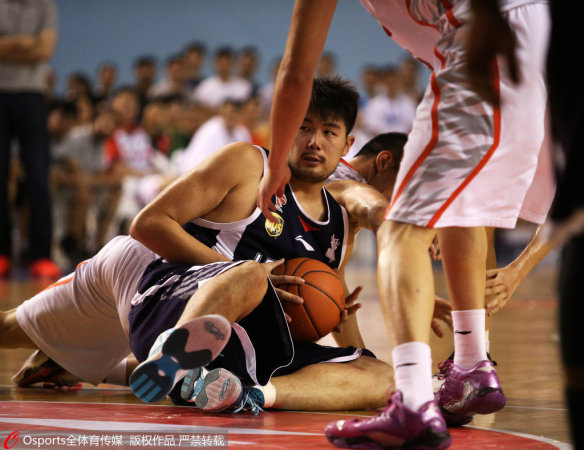fall: (12, 86, 382, 410)
